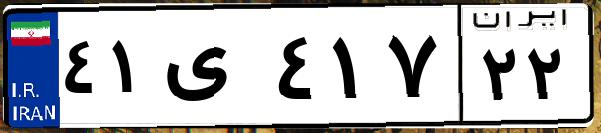1: (330, 28, 385, 110), (110, 28, 158, 98)
2: (475, 38, 525, 113), (525, 38, 570, 115)
4: (270, 28, 330, 110), (57, 26, 110, 100)
7: (385, 28, 445, 110)
ی: (158, 20, 270, 120)
